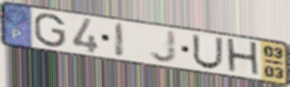4: (71, 16, 101, 55)
G: (32, 12, 67, 48)
H: (224, 37, 262, 79)
I: (113, 20, 125, 59)
J: (148, 29, 178, 64)
U: (191, 33, 225, 70)
